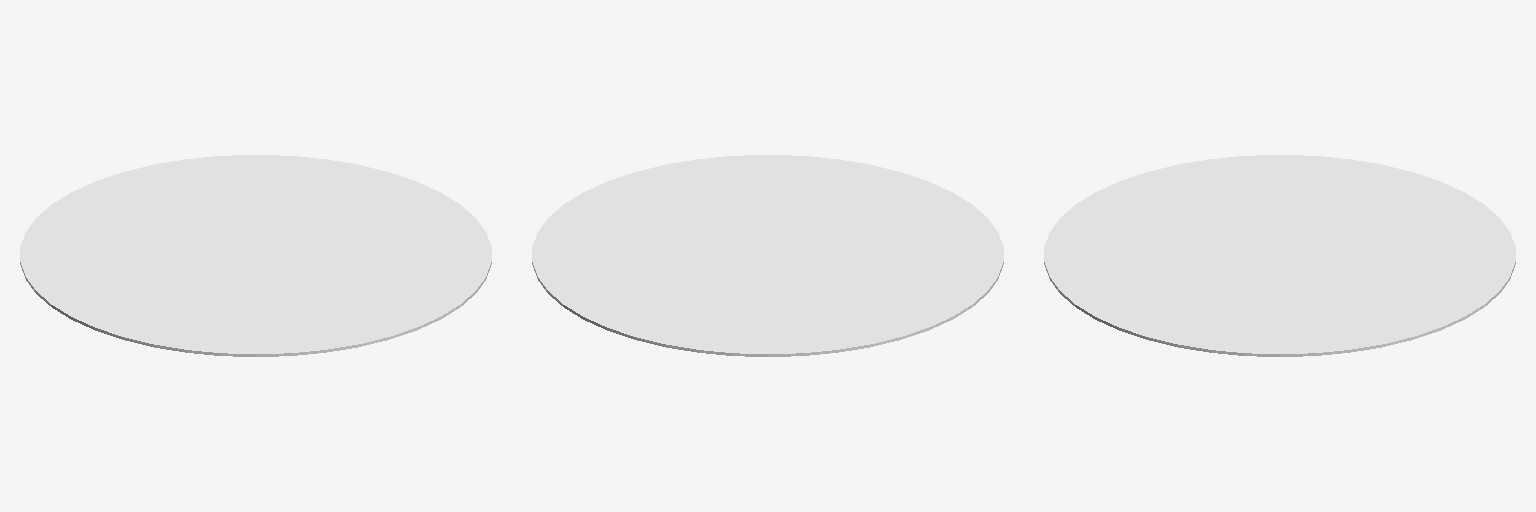
The robot description file, URDF, robot "plane":
<?xml version="0.0" ?>
<robot name="plane">

  <link name="planeLink">

  <contact>
      <lateral_friction value="1"/>
  </contact>

    <inertial>
      <origin rpy="0 0 0" xyz="0 0 0"/>
       <mass value=".0"/>
       <inertia ixx="0" ixy="0" ixz="0" iyy="0" iyz="0" izz="0"/>
    </inertial>

    <visual>
      <origin rpy="0 0 0" xyz="0 0 -0.1"/>
      <geometry>
        <mesh filename="plane.obj" scale="0.1 0.1 0.1"/>
      </geometry>
       <material name="white">
        <color rgba="1 1 1 1"/>
      </material>
    </visual>

    <collision>
      <origin rpy="0 0 0" xyz="0 0 -5"/>
      <geometry>
	 	<cylinder radius="40.0" length="10"/>
      </geometry>
    </collision>

  </link>
</robot>

--- What the picture shows (computed from the rendered views, not written in the file) ---
The picture shows the robot from 3 angles, left to right: view 1: azimuth 30°, elevation 25°; view 2: azimuth 150°, elevation 25°; view 3: azimuth 270°, elevation 25°; orthographic projection.
Robot: plane — 1 links, 0 joints (none); root link planeLink; default pose: every joint at zero.
Links seen in each view (by area): view 1: planeLink; view 2: planeLink; view 3: planeLink.
Boxes of the visible links, <box> form: planeLink: <box>20,155,491,356</box>; planeLink: <box>532,155,1003,356</box>; planeLink: <box>1044,155,1515,356</box>.
Size in the robot's own frame: 15 by 14.96 by 0.1 metres.
Meshes: 1 distinct files referenced, 1 mesh visuals loaded (1 OBJ).
